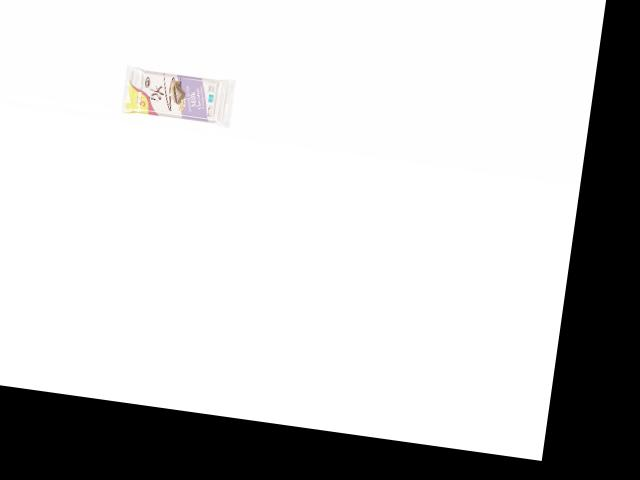chocolate: (117, 60, 237, 131)
